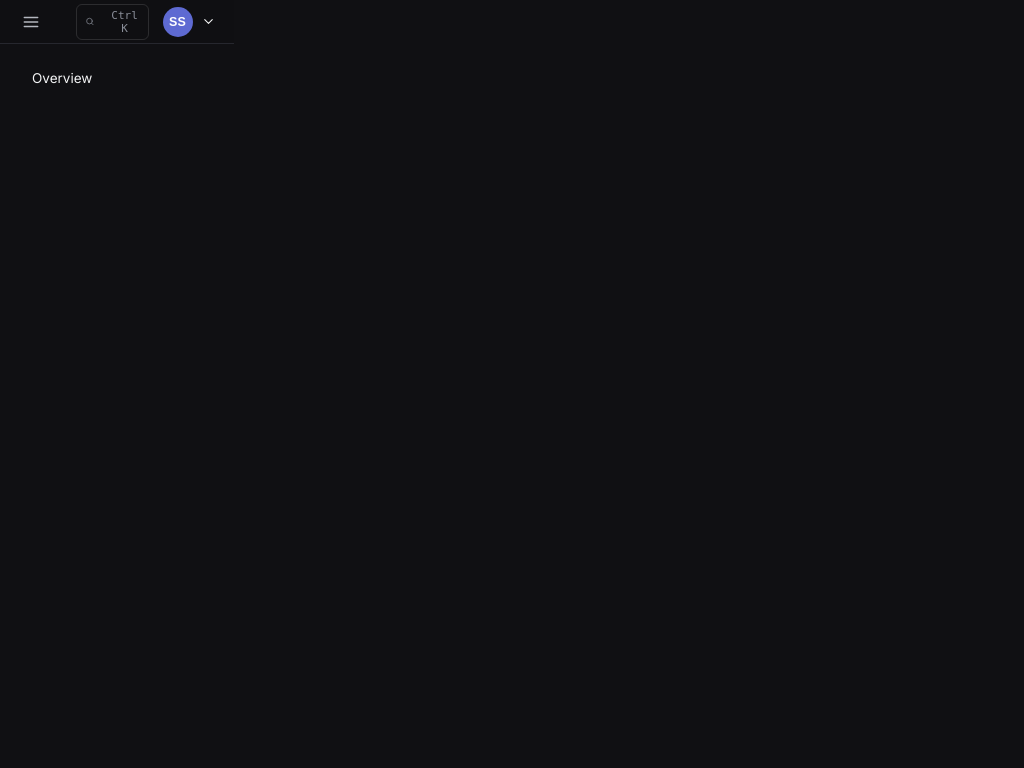
Test case: phone workspace switching › the slate drawer offers the workspace picker and switches the active workspace
The width and height of the screenshot is (1024, 768).
Later steps or results of the test are not shown.
Step 1. Click the button named "menu" → (31, 22), box [16,6,46,38]
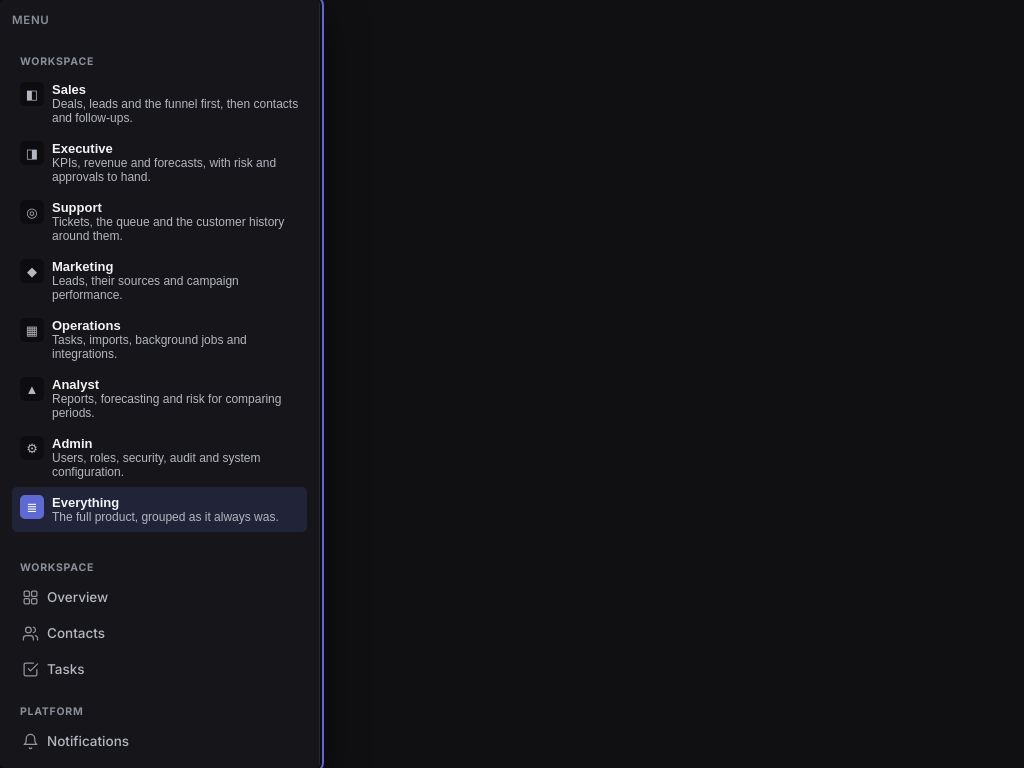
Expected: the element with class "mobile-drawer__workspaces" is shown, [12,38,307,544]
